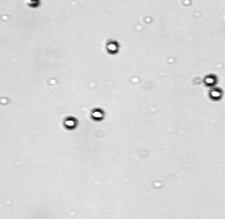Dead Cell: (26, 1, 38, 6)
Living Cell: (63, 115, 77, 129), (106, 41, 119, 53), (204, 74, 217, 86), (210, 88, 223, 100), (91, 109, 103, 120)
